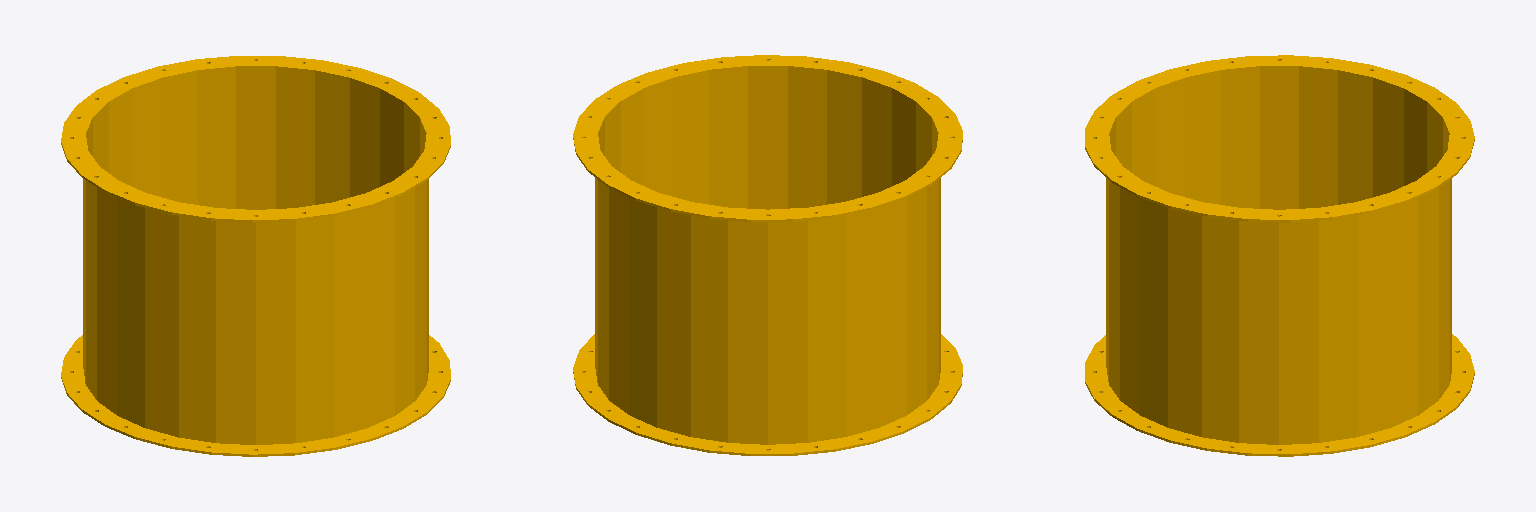
The model's file is lige-59-obj.obj.
3 views of the same model, side by side, from view 1: azimuth 30°, elevation 25°; view 2: azimuth 150°, elevation 25°; view 3: azimuth 270°, elevation 25° (orthographic).
Parts seen in each view (by area): view 1: lige-59-obj; view 2: lige-59-obj; view 3: lige-59-obj.
Boxes of the visible parts, x1=… form: lige-59-obj: x1=61, y1=56, x2=450, y2=456; lige-59-obj: x1=573, y1=55, x2=962, y2=455; lige-59-obj: x1=1085, y1=55, x2=1474, y2=456.
Size of the model in its own units: 0.8787 by 0.5876 by 0.8774.